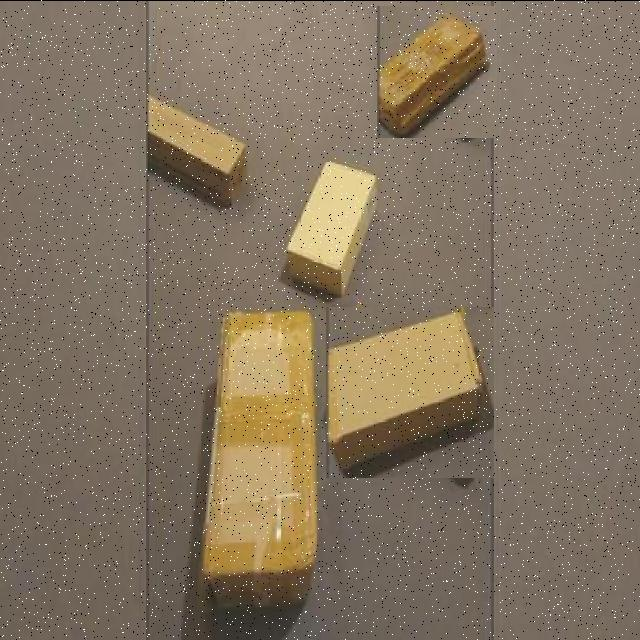normal: (326, 306, 494, 477), (374, 5, 497, 137), (278, 158, 380, 296)
